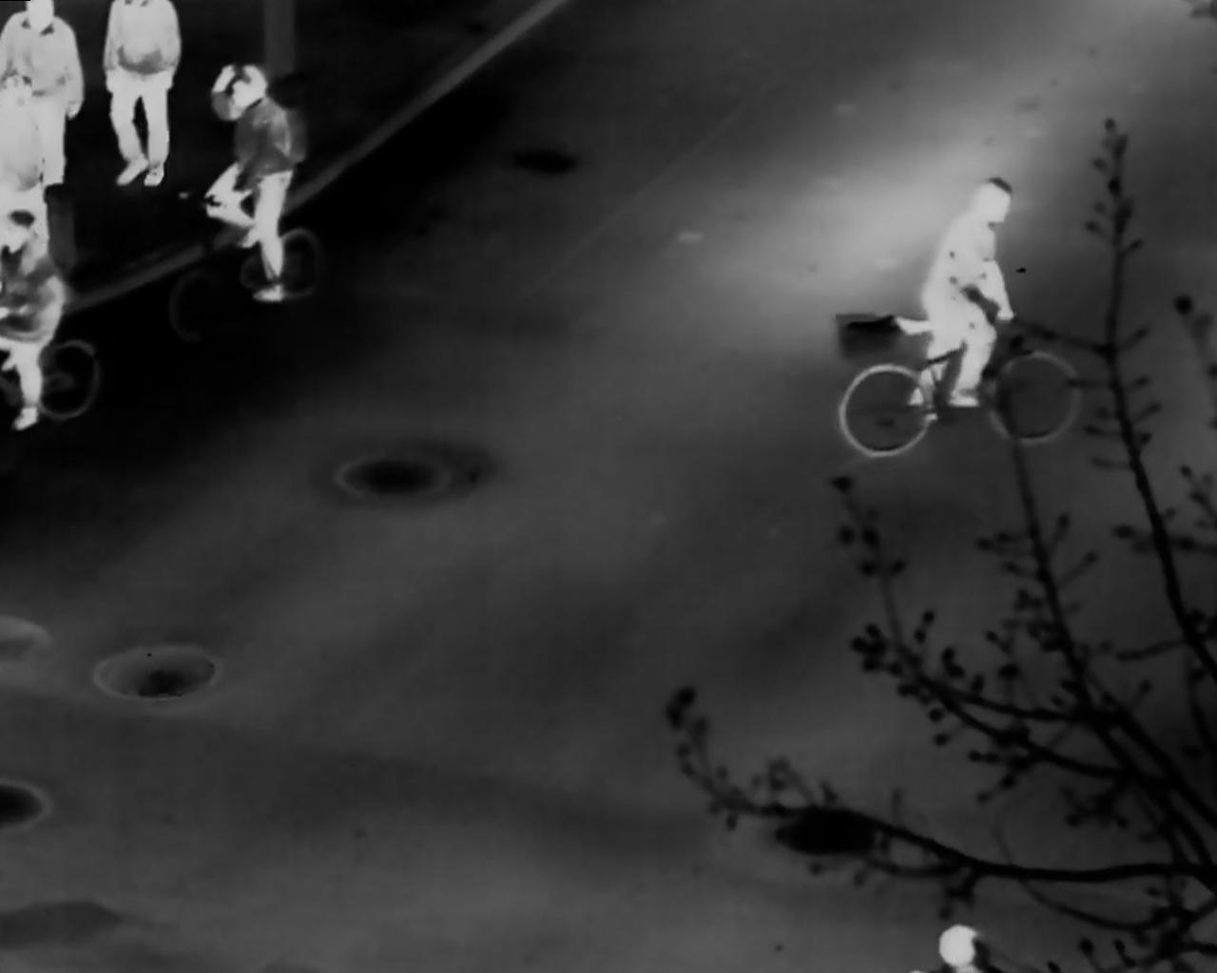person: (203, 61, 307, 302), (907, 177, 1014, 410)
